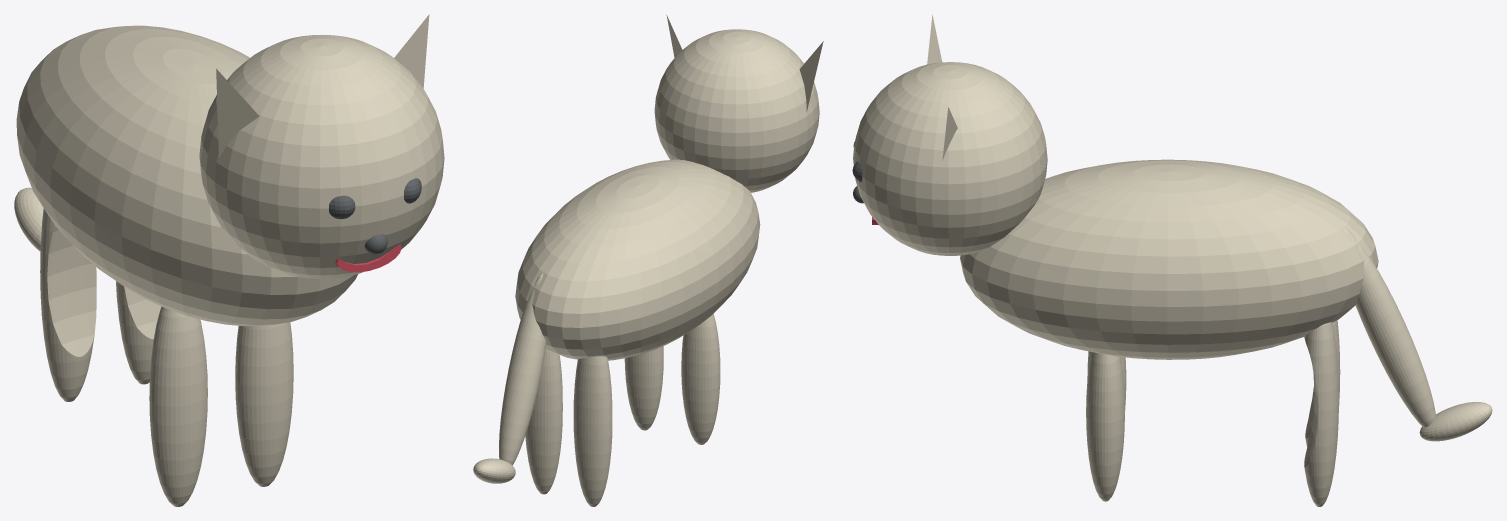
Rendered from Cat.glb.
3 renders of one model, left to right at view 1: azimuth 30°, elevation 25°; view 2: azimuth 150°, elevation 25°; view 3: azimuth 270°, elevation 25°, orthographic. The views are drawn at different scales.
Parts seen in each view (by area): view 1: Mesh_Mesh_head_geo.001_lambert2SG.001; view 2: Mesh_Mesh_head_geo.001_lambert2SG.001; view 3: Mesh_Mesh_head_geo.001_lambert2SG.001.
Part boxes in pixels (x1=…): Mesh_Mesh_head_geo.001_lambert2SG.001: x1=14, y1=14, x2=444, y2=506; Mesh_Mesh_head_geo.001_lambert2SG.001: x1=473, y1=15, x2=823, y2=506; Mesh_Mesh_head_geo.001_lambert2SG.001: x1=852, y1=14, x2=1492, y2=506.
Size of the model in its own units: 23.42 by 48.29 by 65.73.
